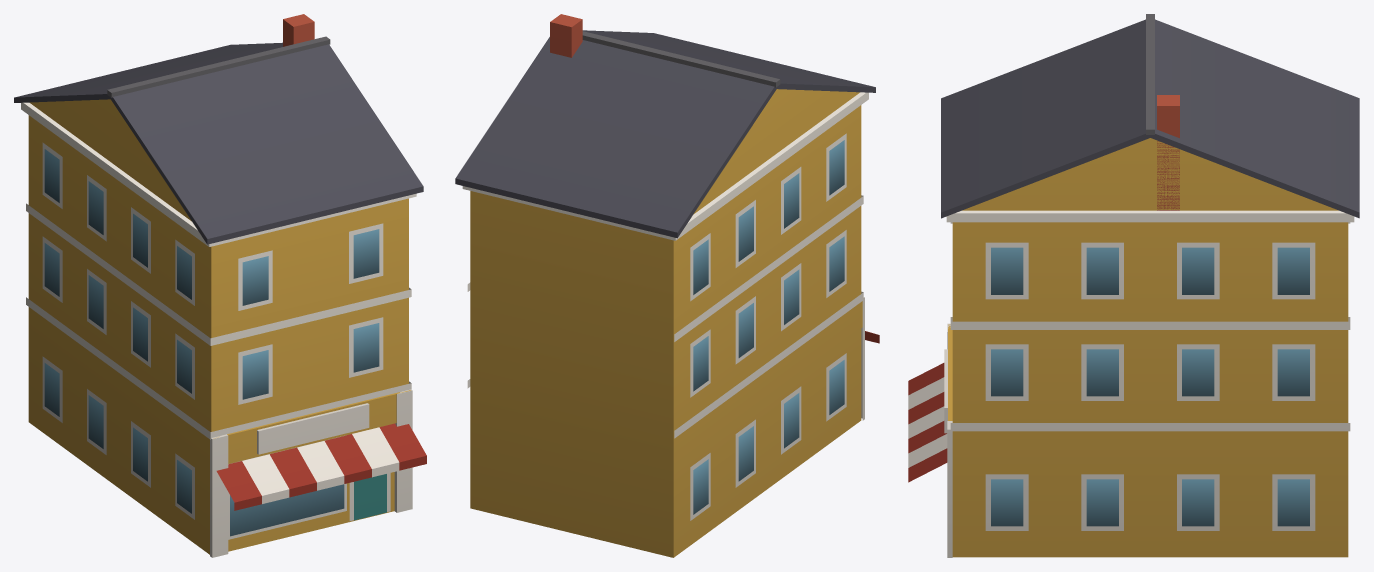
The model's file is beacon_n14_far.glb.
3 renders of one model, left to right at view 1: azimuth 30°, elevation 25°; view 2: azimuth 150°, elevation 25°; view 3: azimuth 270°, elevation 25°, orthographic. The views are drawn at different scales.
Visible parts, largest first — view 1: beacon_n14_far; view 2: beacon_n14_far; view 3: beacon_n14_far.
Part boxes in pixels (box(x1,y1,x2,y2)): beacon_n14_far: box(14, 14, 426, 557); beacon_n14_far: box(455, 14, 879, 557); beacon_n14_far: box(908, 14, 1359, 557).
Size of the model in its own units: 8.3 by 15.1 by 13.7.
1 material, 1 textured.
